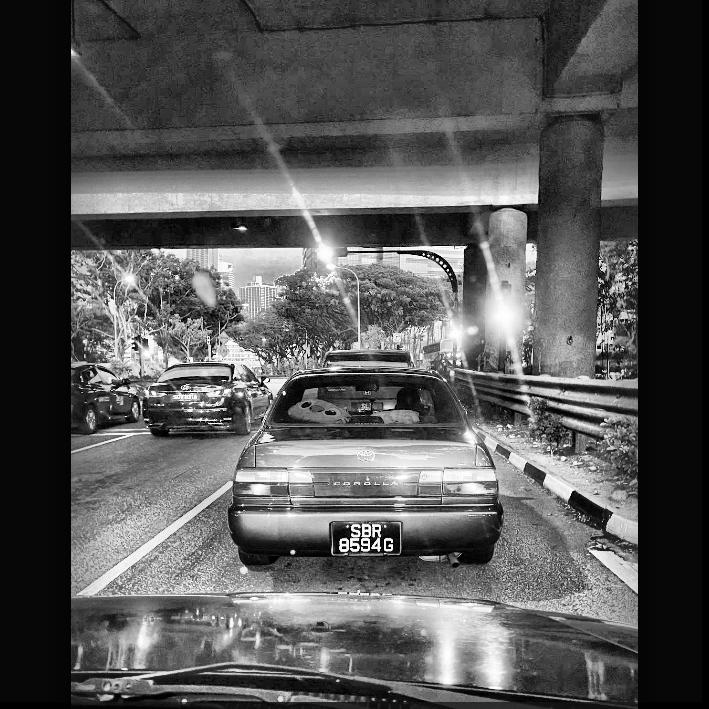License-Plates: (332, 522, 398, 552), (356, 403, 376, 413), (171, 394, 198, 399)
